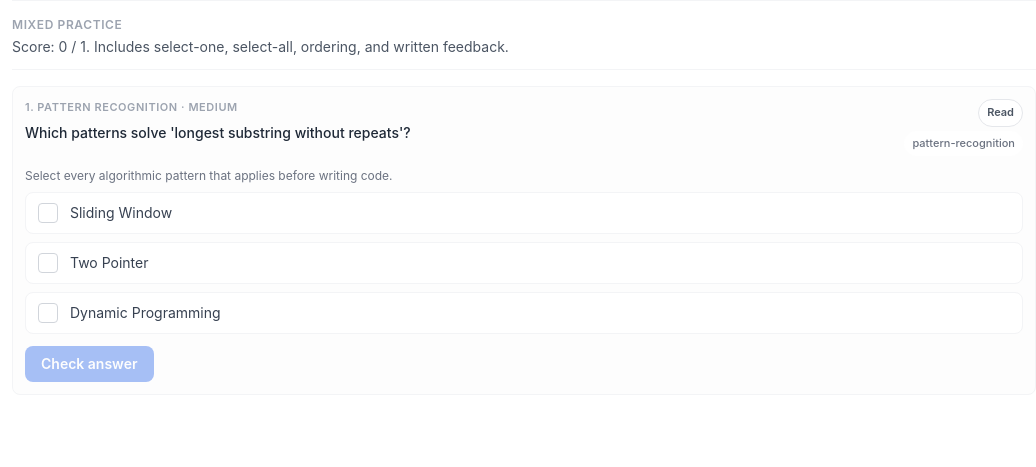
Test: LessonPartPracticeSection pattern_recognition › marks a missing required pattern as not correct
The image size is (1036, 467).
# Select only a distractor.
Click the button "Dynamic Programming": [145, 313] box [25, 292, 1023, 334]
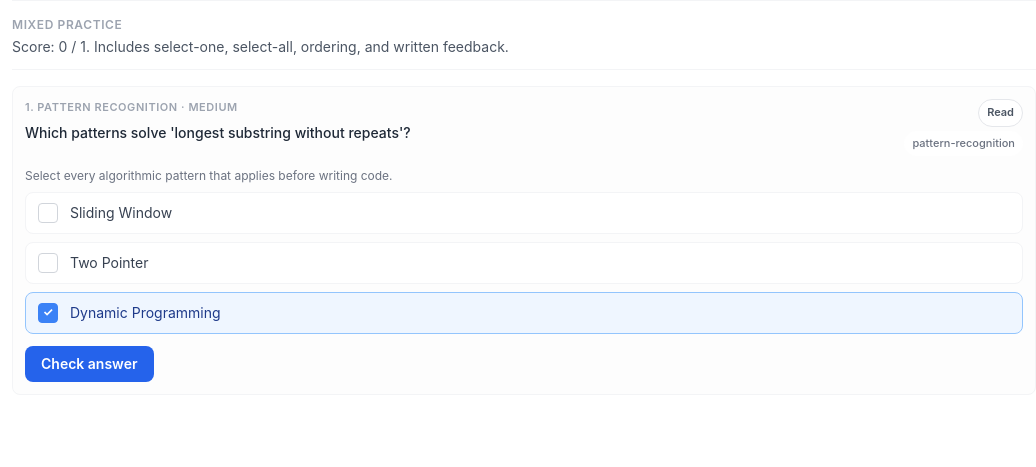
Click the button "Check answer": [89, 364] box [25, 346, 154, 382]
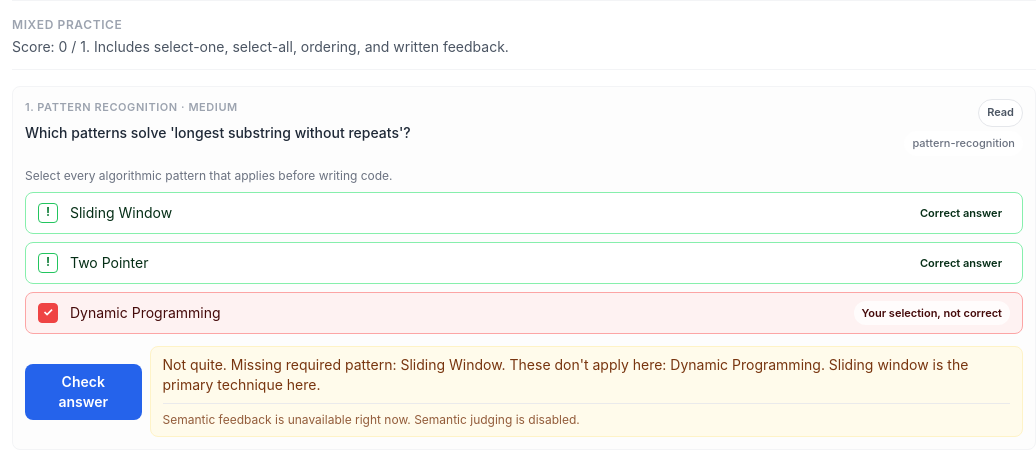
Result: the text "Missing required pattern" is shown at [162, 356, 968, 393]
